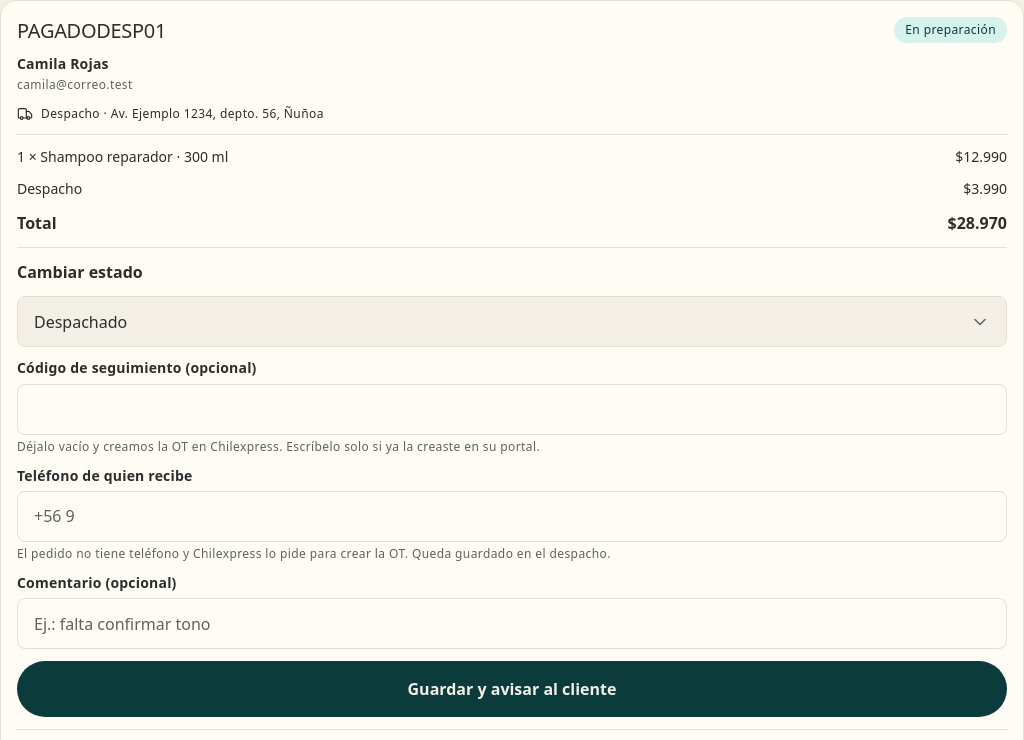
Test case: Panel de pedidos · cambio de estado (SCRUM-130) › teléfono de contacto al despachar (SCRUM-167) › SCRUM-167 FE · CA6 sin teléfono y sin escribirlo, muestra el respaldo que responde el backend
Click the button "Guardar y avisar al cliente". click: (512, 689)
box: [17, 661, 1007, 717]
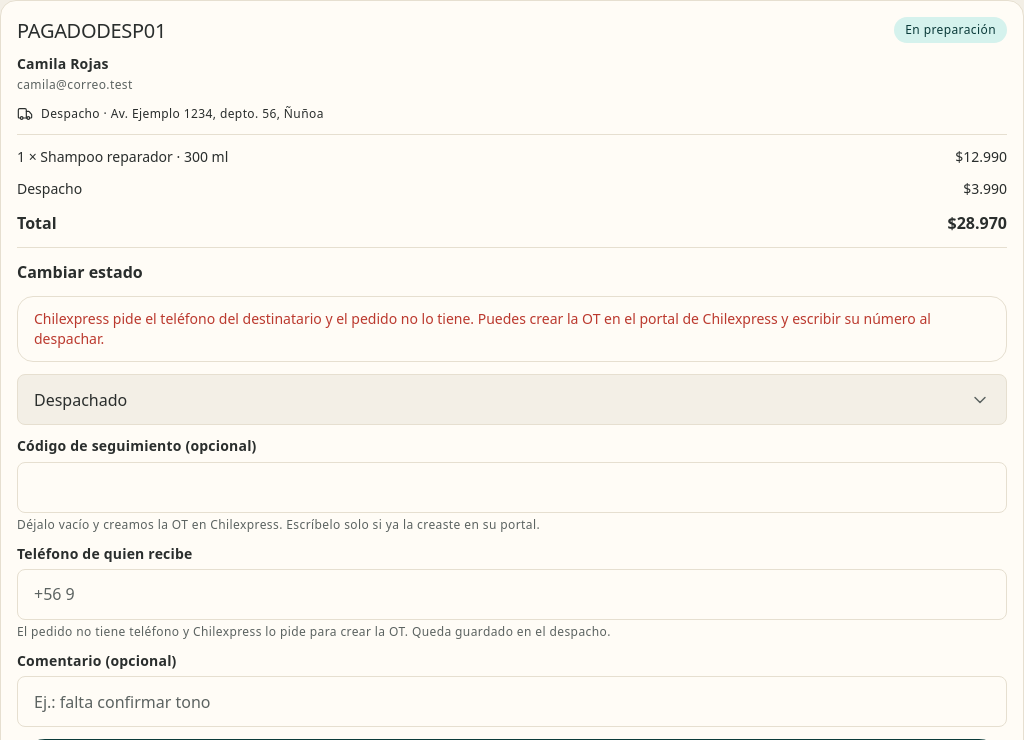
Result: the text "Chilexpress pide el teléfono del destinatario y el pedido no lo tiene. Puedes crear la OT en el portal de Chilexpress y " is shown at [34, 309, 931, 348]
